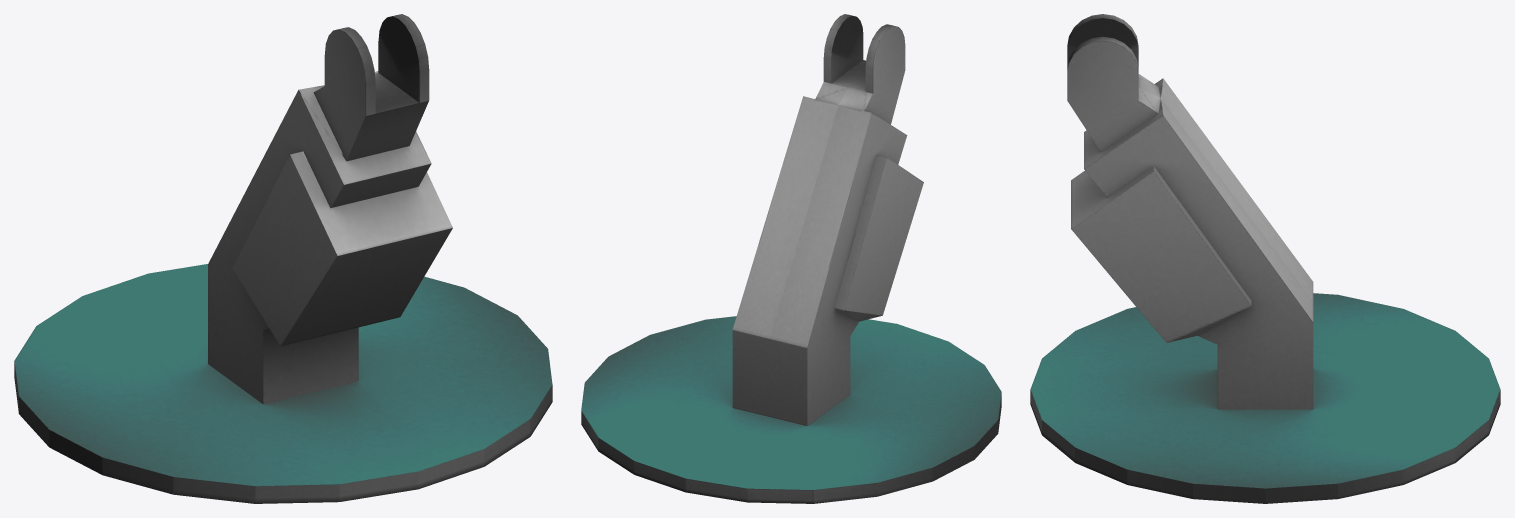
The model's file is gun_base.obj.
The picture shows the model from 3 angles, left to right: view 1: azimuth 30°, elevation 25°; view 2: azimuth 150°, elevation 25°; view 3: azimuth 270°, elevation 25°; orthographic projection. The views are drawn at different scales.
Visible parts, largest first — view 1: gun_base_Mesh; view 2: gun_base_Mesh; view 3: gun_base_Mesh.
Part boxes in pixels (x1,y1,x2,y2): gun_base_Mesh: [14, 14, 552, 503]; gun_base_Mesh: [581, 14, 1001, 503]; gun_base_Mesh: [1030, 14, 1500, 503].
Bounding box in the file's own units: 1.86 × 1.65 × 1.86.
1 material, 1 textured.
